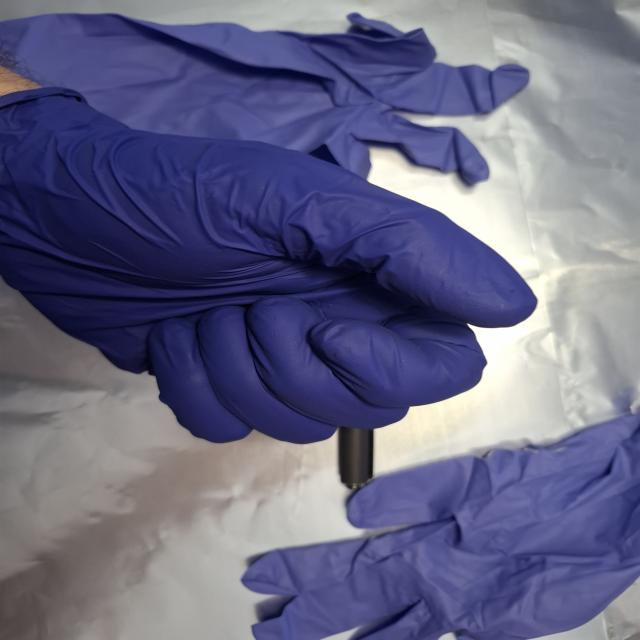glove_on: (0, 85, 546, 447)
